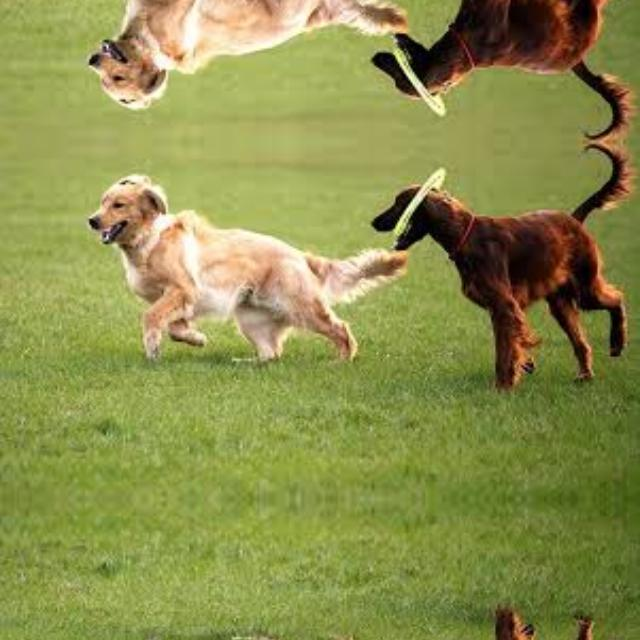dog: (88, 161, 362, 365), (88, 0, 362, 121), (88, 632, 362, 640)
